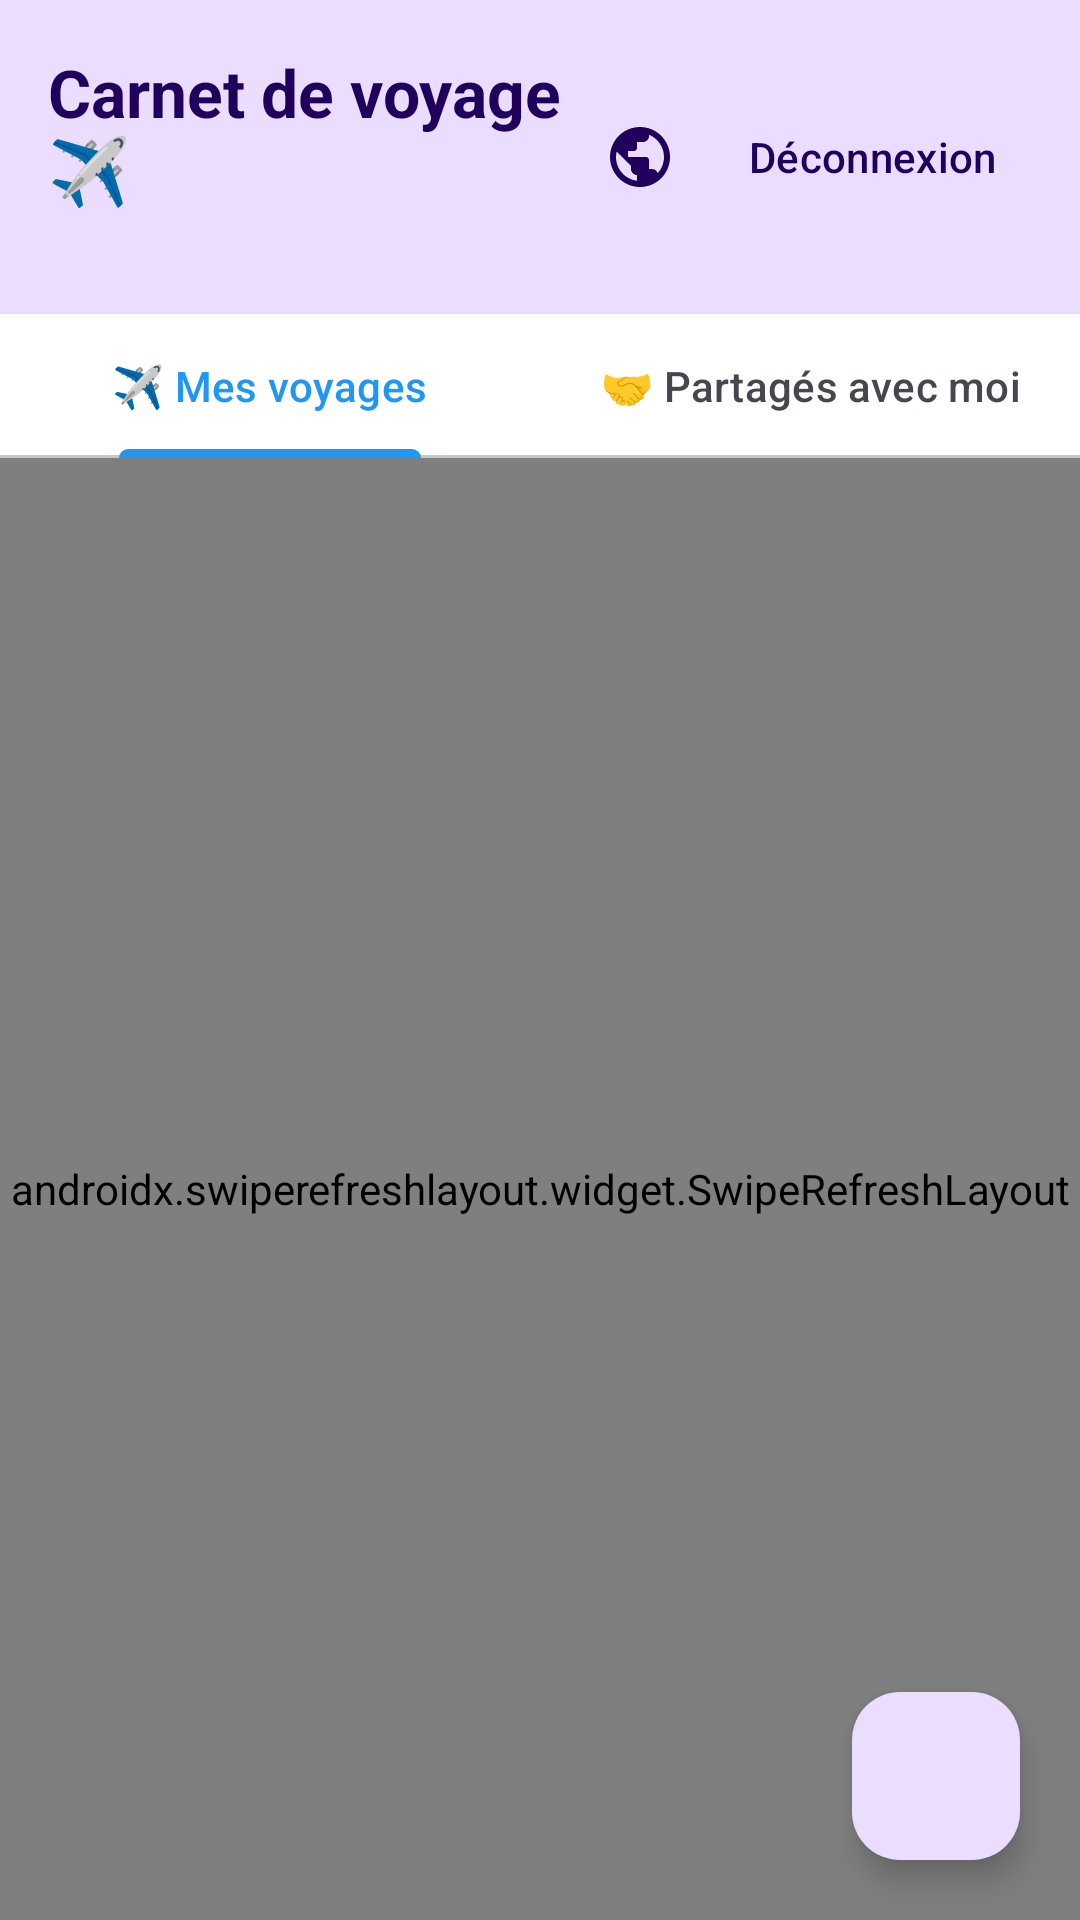

Icons on this 1080*1920 Android screen, each with its box as box(x1, y1, x2, y2):
Voir tous les souvenirs sur la carte: box(610, 127, 670, 187)
